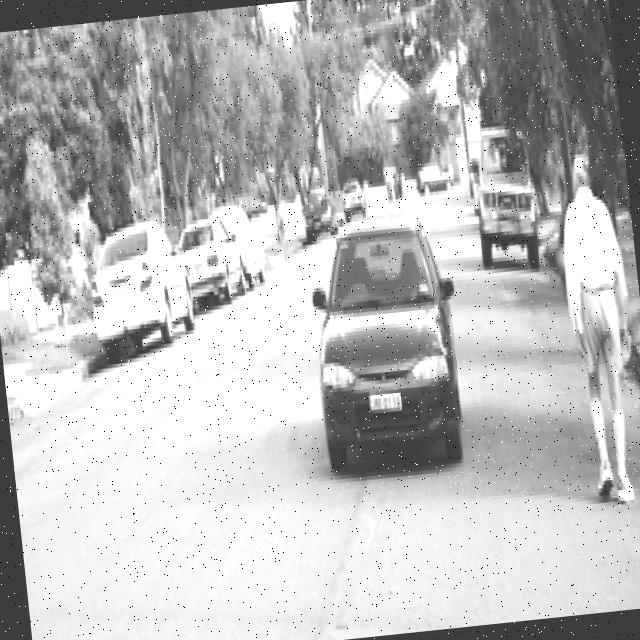Autre: (366, 387, 404, 418), (498, 212, 520, 238), (110, 276, 130, 302), (190, 260, 207, 276)
